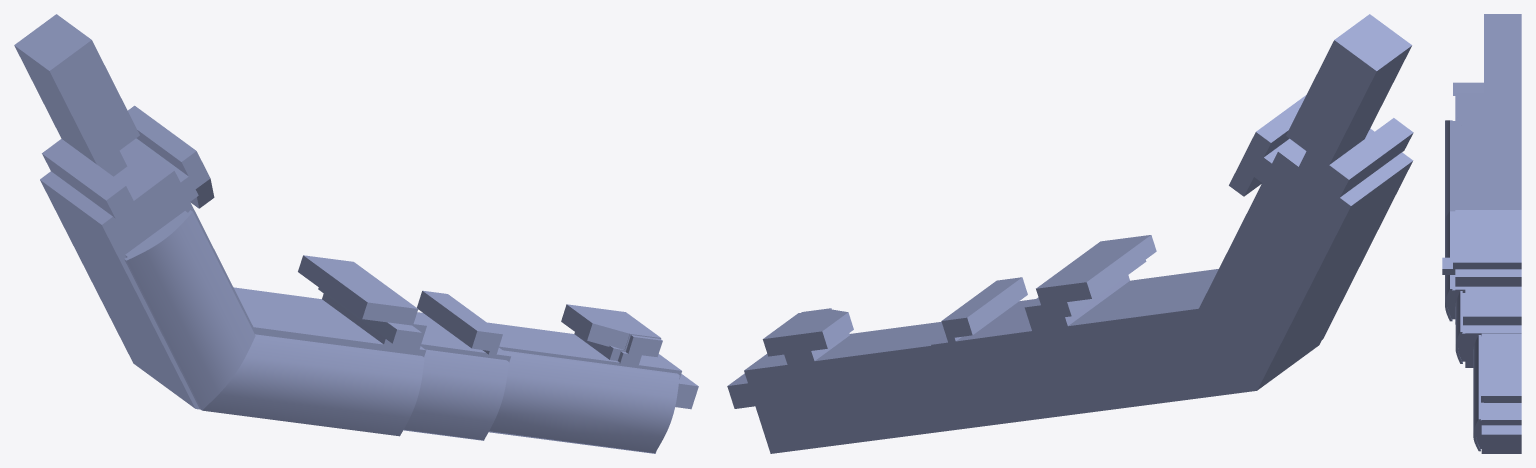
3 renders of one model, left to right at view 1: azimuth 30°, elevation 25°; view 2: azimuth 150°, elevation 25°; view 3: azimuth 270°, elevation 25°, orthographic. The views are drawn at different scales.
Parts seen in each view (by area): view 1: E4; view 2: E4; view 3: E4.
Part boxes in pixels (bbox=[...]): E4: bbox=[14, 14, 698, 453]; E4: bbox=[727, 14, 1413, 453]; E4: bbox=[1442, 14, 1521, 453].
Size of the model in its own units: 154 by 125 by 30.75.
